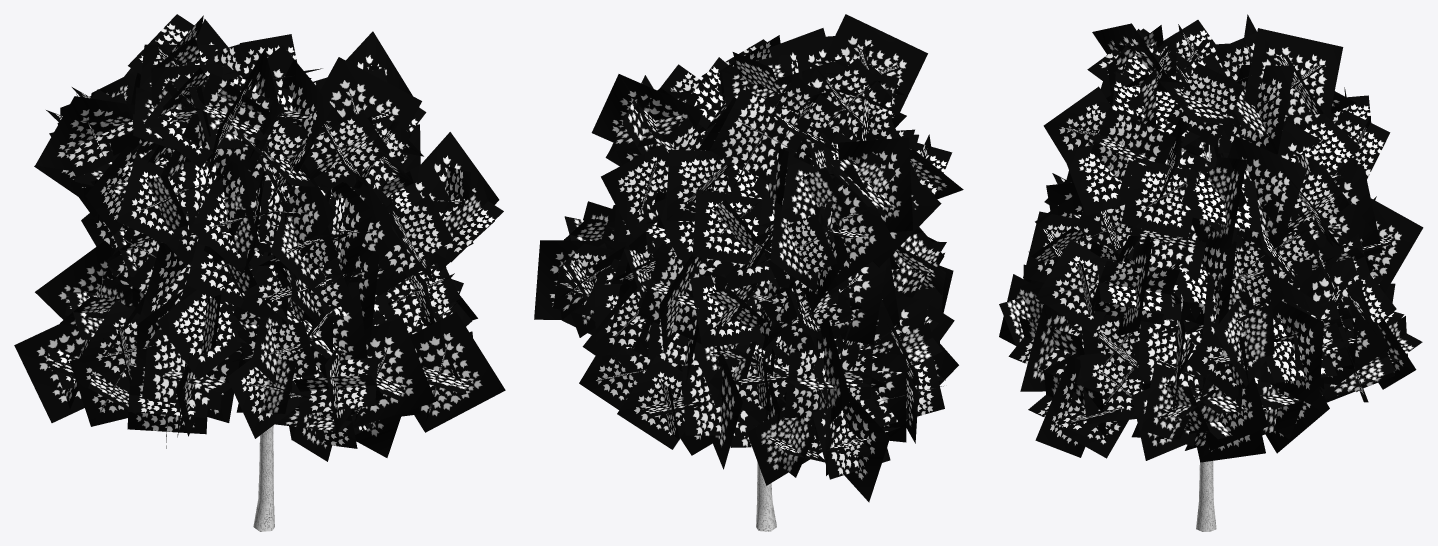
Rendered from Tree_Blender_010_RedMaple.fbx.
3 renders of one model, left to right at view 1: azimuth 30°, elevation 25°; view 2: azimuth 150°, elevation 25°; view 3: azimuth 270°, elevation 25°, orthographic. The views are drawn at different scales.
Visible parts, largest first — view 1: leafclumpatlas_redmaple_1, sugarmaplebarktextureseamless_0; view 2: leafclumpatlas_redmaple_1, sugarmaplebarktextureseamless_0; view 3: leafclumpatlas_redmaple_1, sugarmaplebarktextureseamless_0.
Boxes of the visible parts, x1=… form: leafclumpatlas_redmaple_1: x1=14, y1=14, x2=505, y2=461; sugarmaplebarktextureseamless_0: x1=253, y1=425, x2=274, y2=531; leafclumpatlas_redmaple_1: x1=534, y1=14, x2=963, y2=502; sugarmaplebarktextureseamless_0: x1=756, y1=462, x2=776, y2=531; leafclumpatlas_redmaple_1: x1=999, y1=14, x2=1423, y2=462; sugarmaplebarktextureseamless_0: x1=1170, y1=143, x2=1216, y2=531.
Size of the model in its own units: 1157 by 1442 by 1162.
